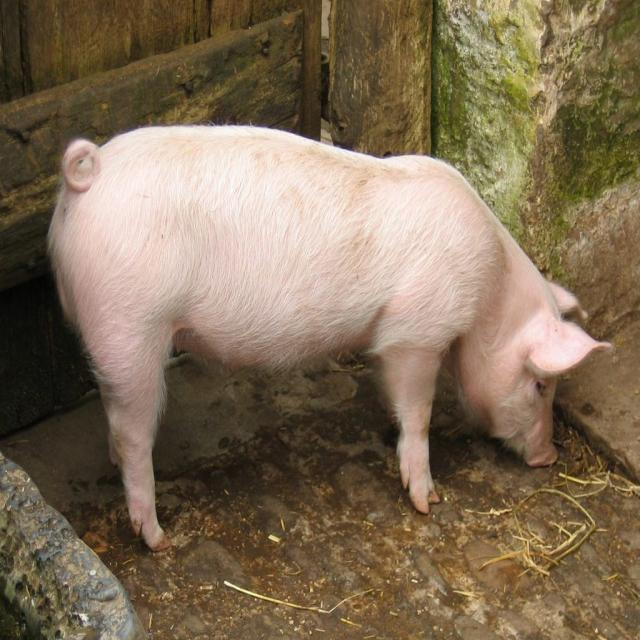Pig: (48, 124, 610, 554)
